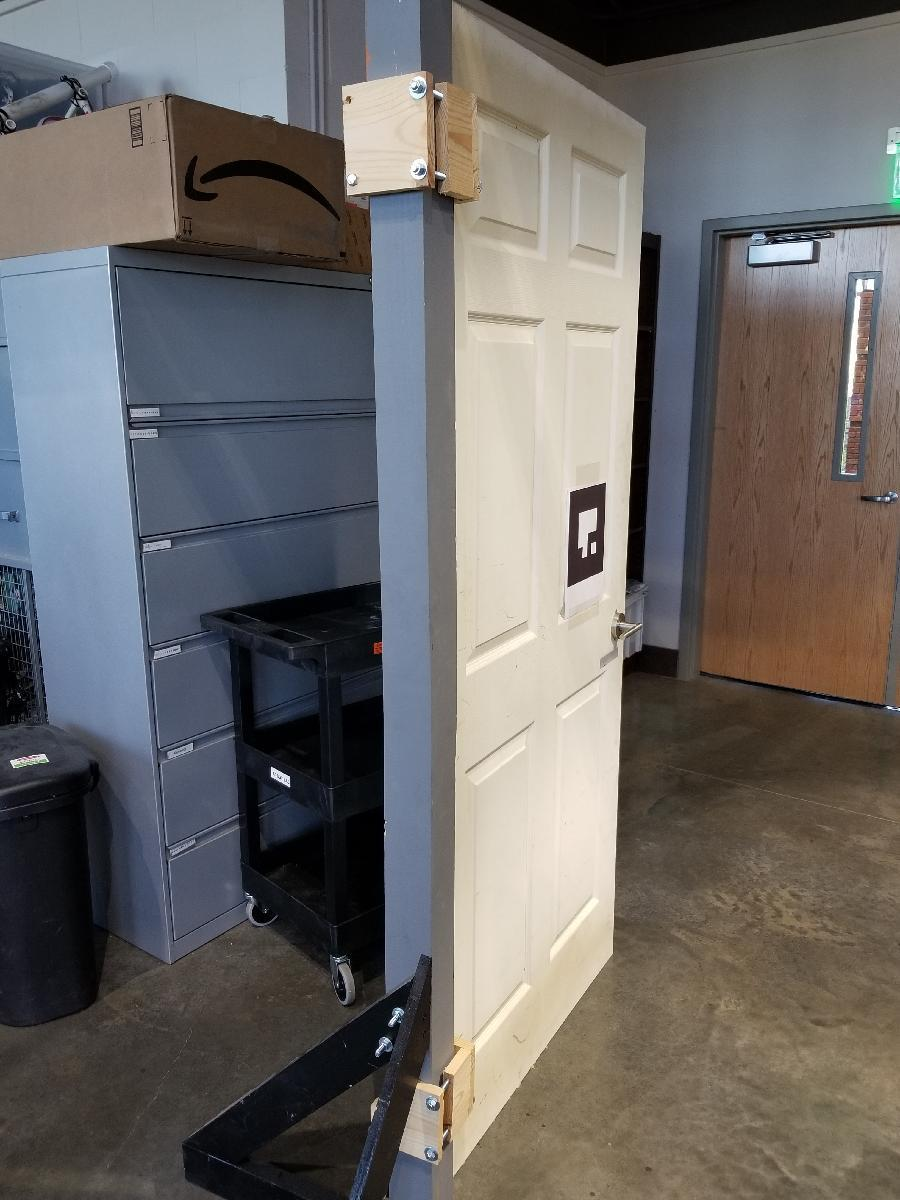door: (458, 8, 632, 1151), (731, 228, 900, 707)
handle: (858, 478, 900, 516), (614, 603, 642, 657)
